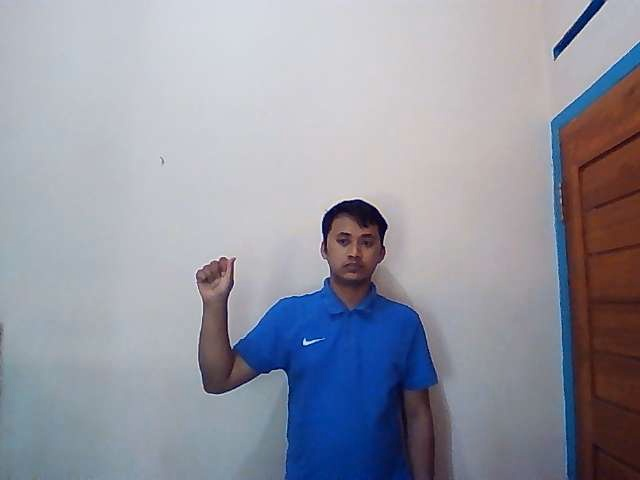A: (194, 256, 237, 301)
